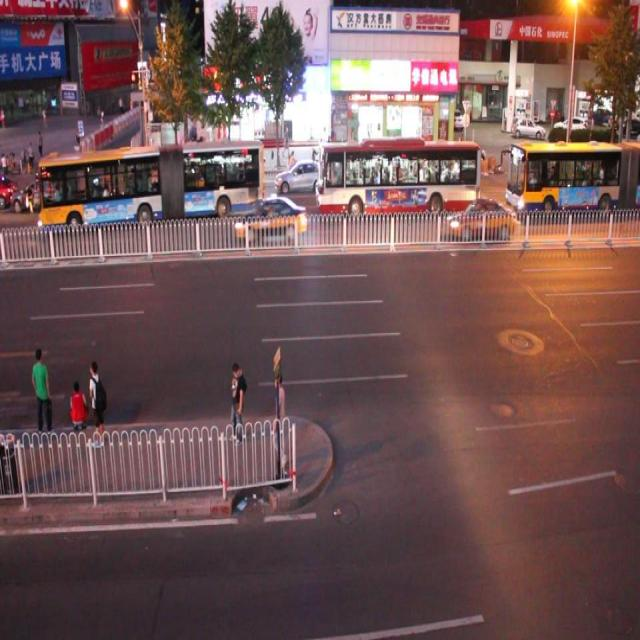car: (235, 198, 305, 239), (446, 198, 514, 239), (190, 157, 238, 204), (66, 179, 121, 220), (276, 160, 325, 193), (12, 182, 58, 214), (1, 172, 18, 208)
van: (38, 143, 264, 227), (316, 139, 479, 214), (504, 136, 640, 215)
